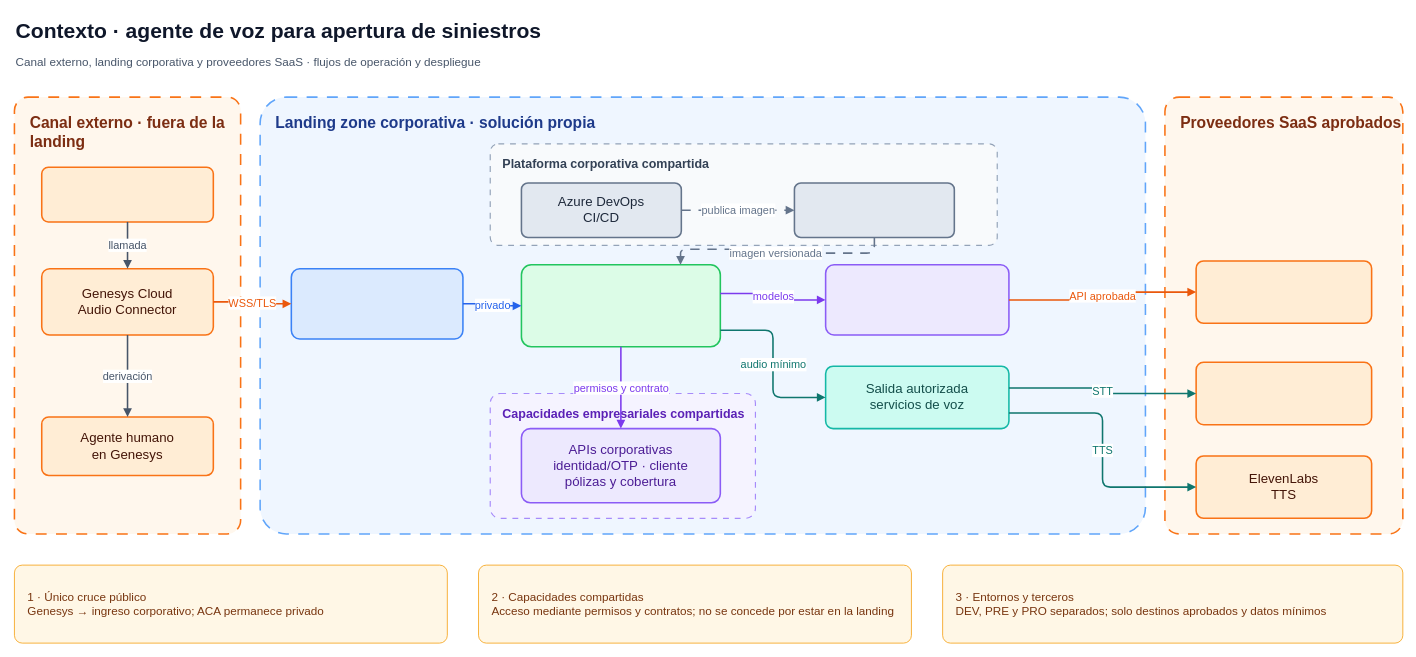
Image size: 1416x657. Some labels were removed from this diagram. The centre of each missing label's shape, as x and y in pixels:
"Agente de voz ACA / Pipecat" goes at point (620, 305).
"AI Gateway corporativo LiteLLM Proxy" goes at point (916, 299).
"Deepgram STT" goes at point (1283, 393).
"Ingreso público corporativo Application Gateway WSS/TLS autenticado" goes at point (376, 303).
"Modelos de IA aprobados" goes at point (1283, 292).
"Persona asegurada" goes at point (127, 194).
"Registro corporativo ACR" goes at point (874, 210).
